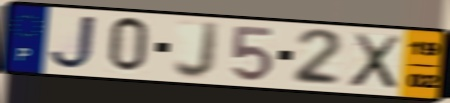0: (106, 15, 153, 77)
2: (293, 27, 346, 88)
5: (228, 24, 279, 83)
J: (171, 19, 223, 81), (47, 13, 100, 71)
X: (346, 31, 404, 92)
